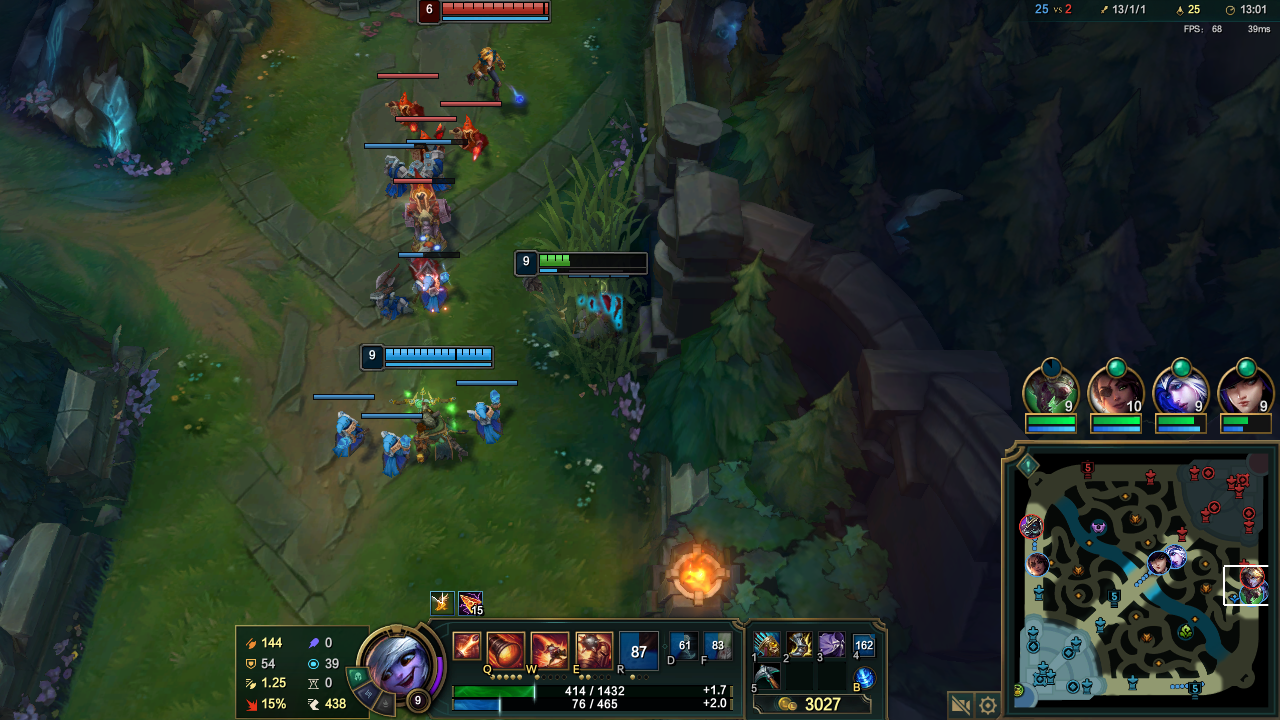DFXB: (397, 185, 457, 259), (451, 118, 494, 166), (386, 91, 432, 130), (408, 127, 454, 162)
DFYX: (435, 2, 520, 22)
WFXB: (463, 386, 515, 442), (405, 265, 461, 316), (321, 403, 364, 459), (373, 427, 416, 473), (413, 145, 450, 193), (377, 154, 410, 198)
